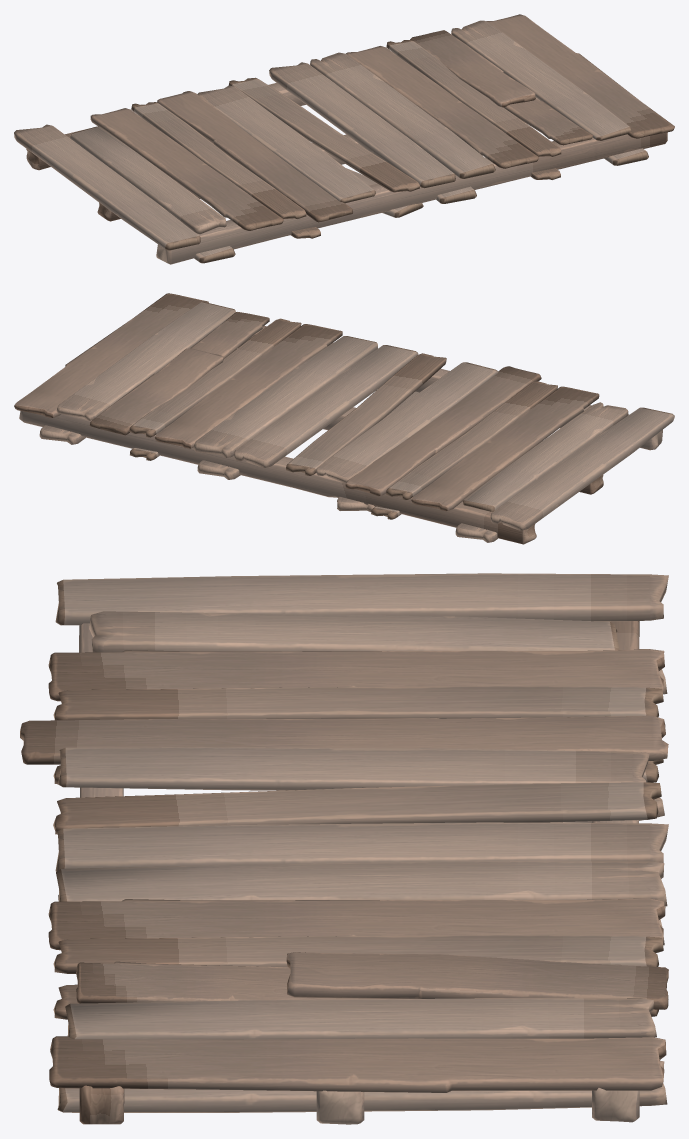
File: SM_Dock_03.fbx
3 renders of one model, top to bottom at view 1: azimuth 30°, elevation 25°; view 2: azimuth 150°, elevation 25°; view 3: azimuth 270°, elevation 25°, orthographic. The views are drawn at different scales.
Parts seen in each view (by area): view 1: SM_Dock_03_LOD0; view 2: SM_Dock_03_LOD0; view 3: SM_Dock_03_LOD0.
Boxes of the visible parts, box(x1,y1,x2,y2) form: SM_Dock_03_LOD0: box(14, 14, 674, 264); SM_Dock_03_LOD0: box(14, 293, 674, 544); SM_Dock_03_LOD0: box(20, 573, 668, 1124).
Bounding box in the file's own units: 804 × 441 × 55.89.
